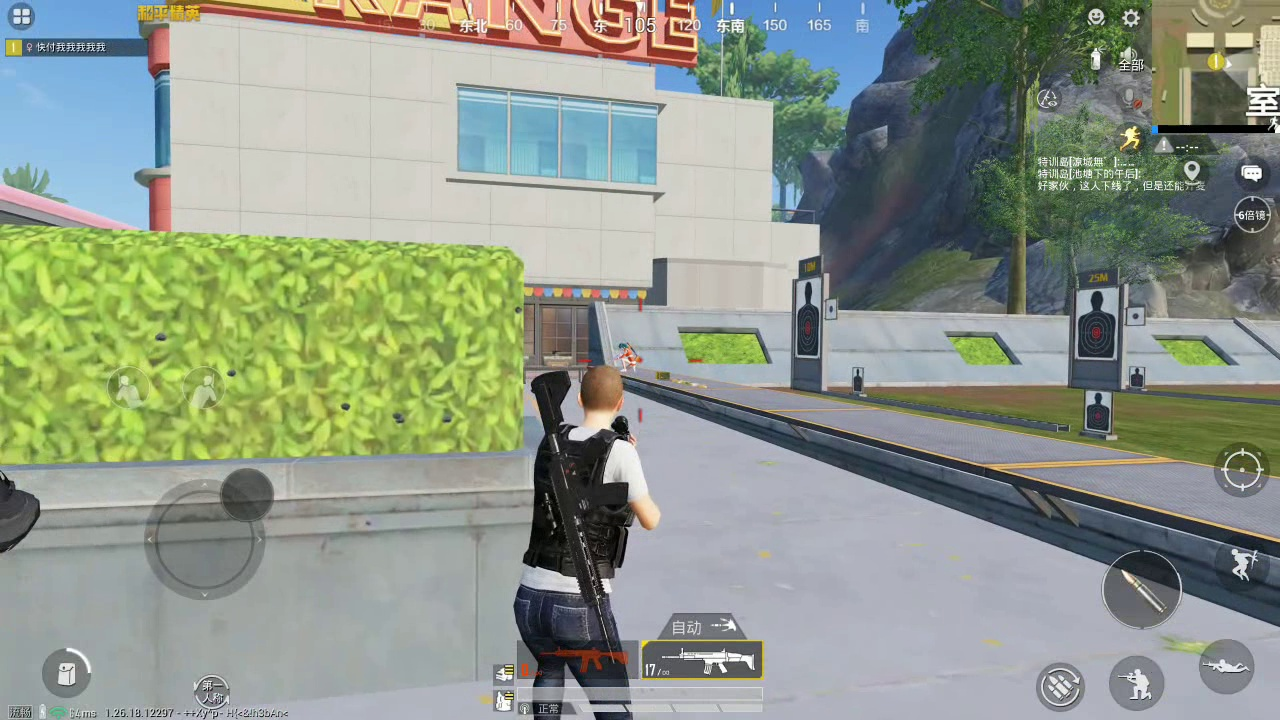enemy: (614, 340, 642, 373)
